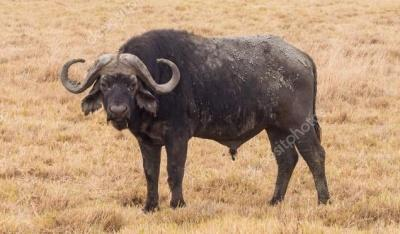buffalo: (60, 30, 331, 214)
